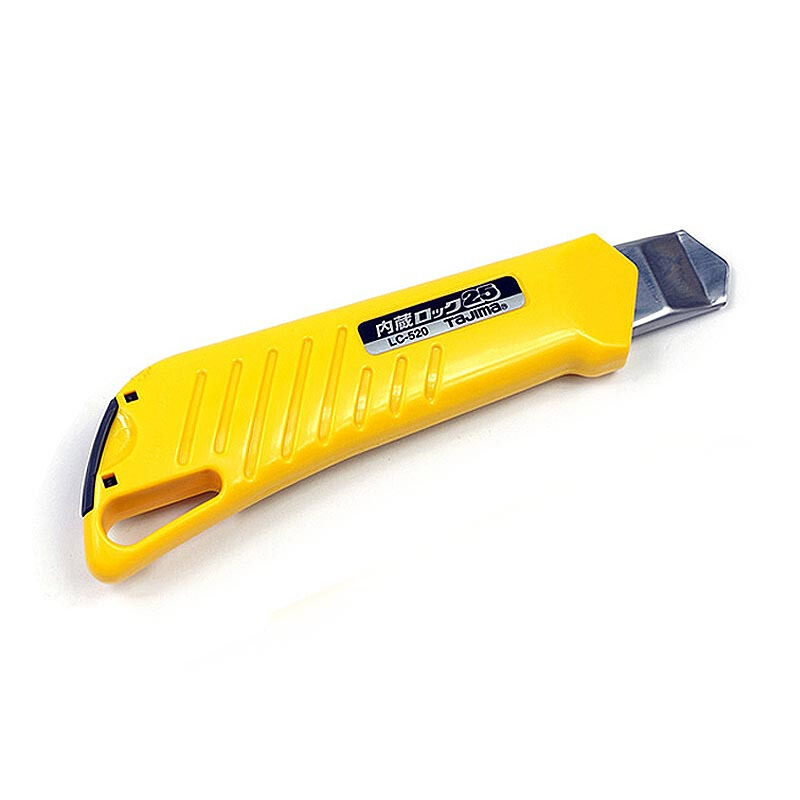cutter: (76, 224, 732, 589)
